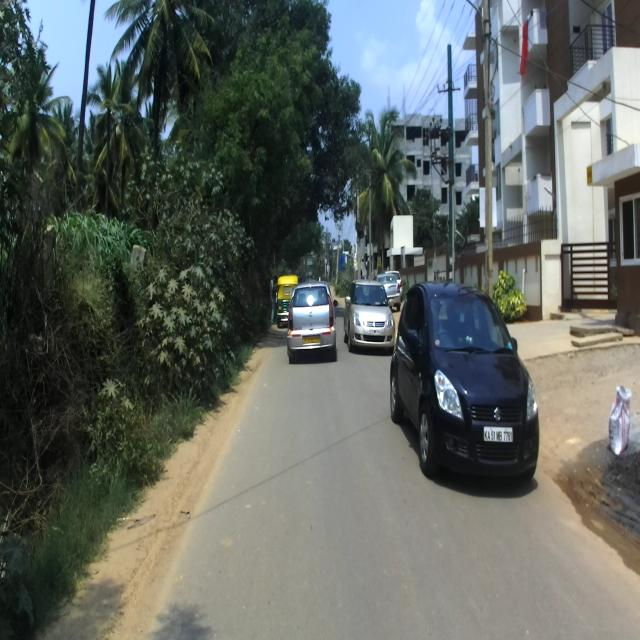car ahead at: (394, 285, 543, 497), (345, 277, 397, 347), (285, 285, 336, 356)
